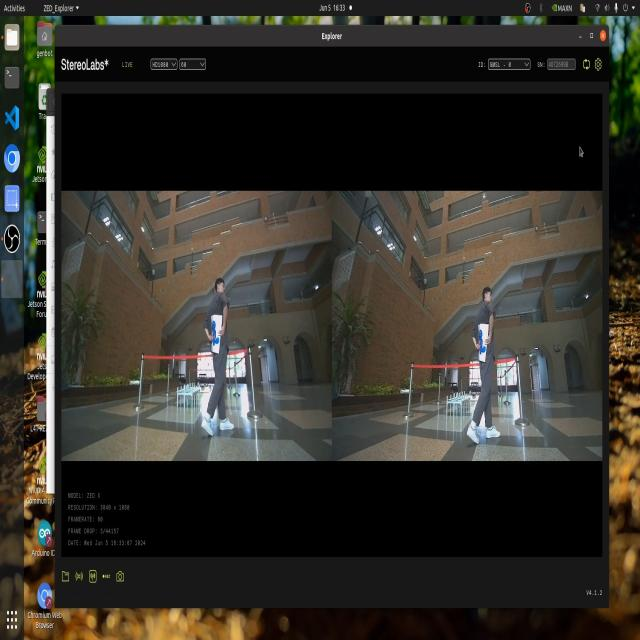blue: (476, 331, 489, 361), (215, 324, 222, 348)
